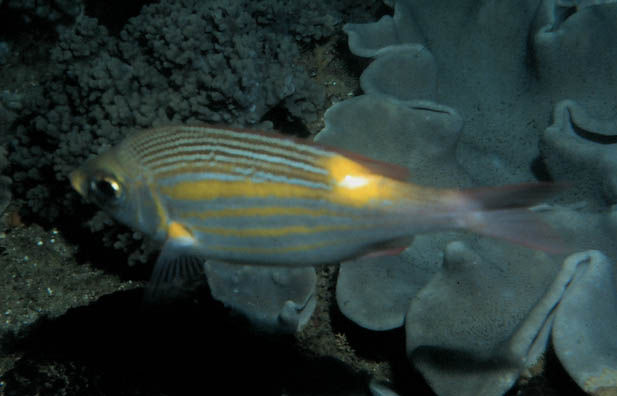fish: (67, 124, 581, 292)
